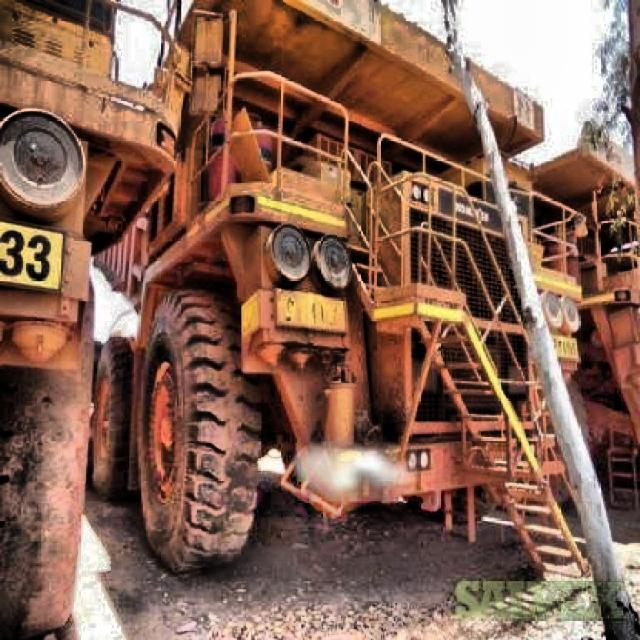dump_truck: (148, 2, 597, 570)
